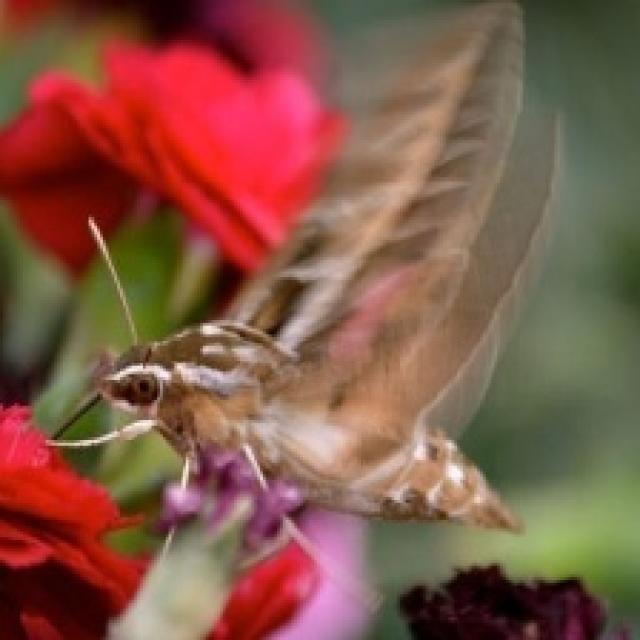butterfly: (40, 0, 560, 571)
